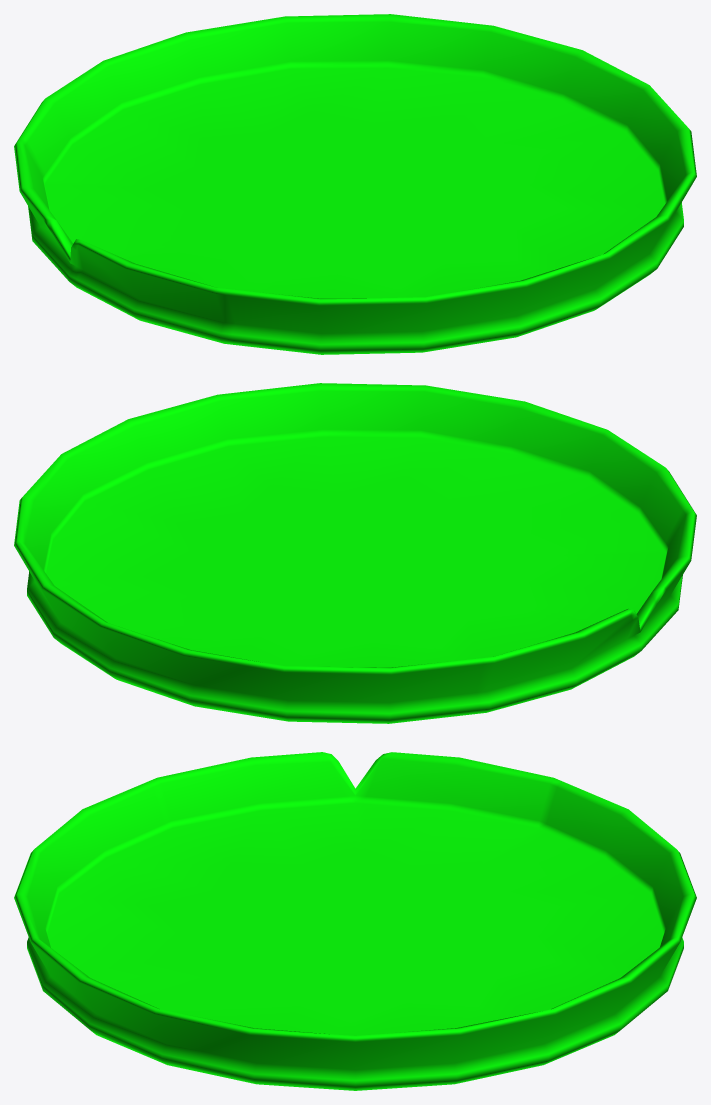
File: LilyPad_2.fbx
3 renders of one model, top to bottom at view 1: azimuth 30°, elevation 25°; view 2: azimuth 150°, elevation 25°; view 3: azimuth 270°, elevation 25°, orthographic.
Parts seen in each view (by area): view 1: LilyPad_2; view 2: LilyPad_2; view 3: LilyPad_2.
Boxes of the visible parts, x1=… form: LilyPad_2: x1=14, y1=14, x2=696, y2=354; LilyPad_2: x1=14, y1=383, x2=696, y2=723; LilyPad_2: x1=14, y1=752, x2=696, y2=1090.
Size of the model in its own units: 112 by 11.31 by 112.
